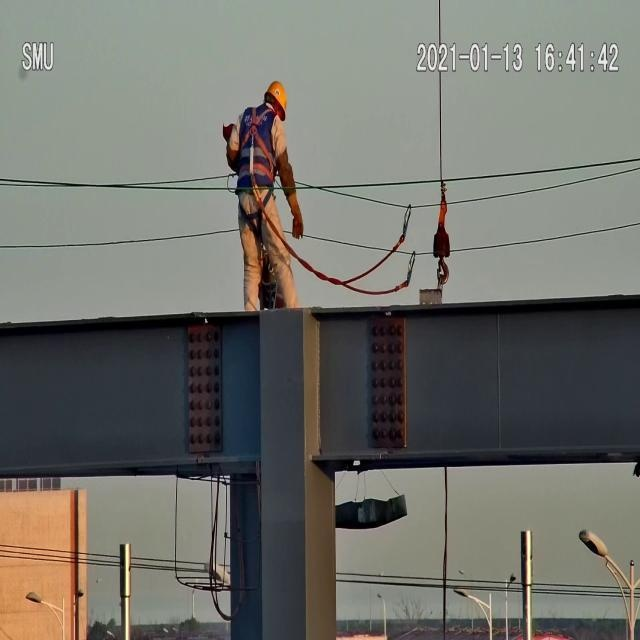Arnes_seguridad: (235, 101, 275, 186)
